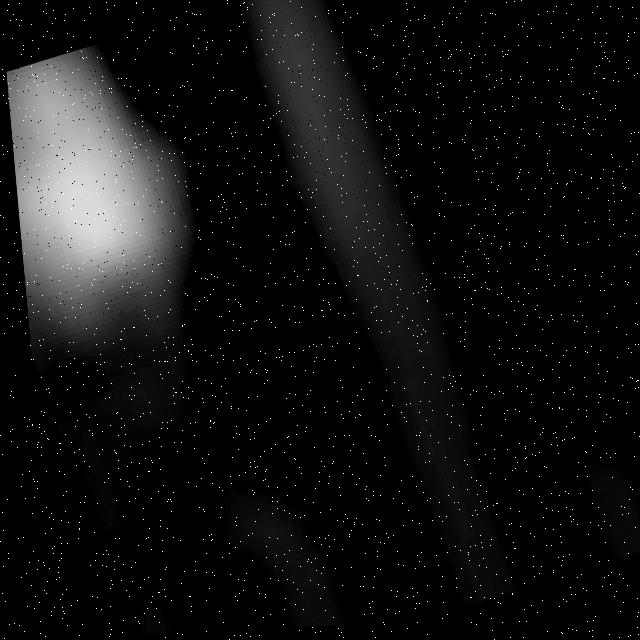person: (3, 24, 251, 372)
